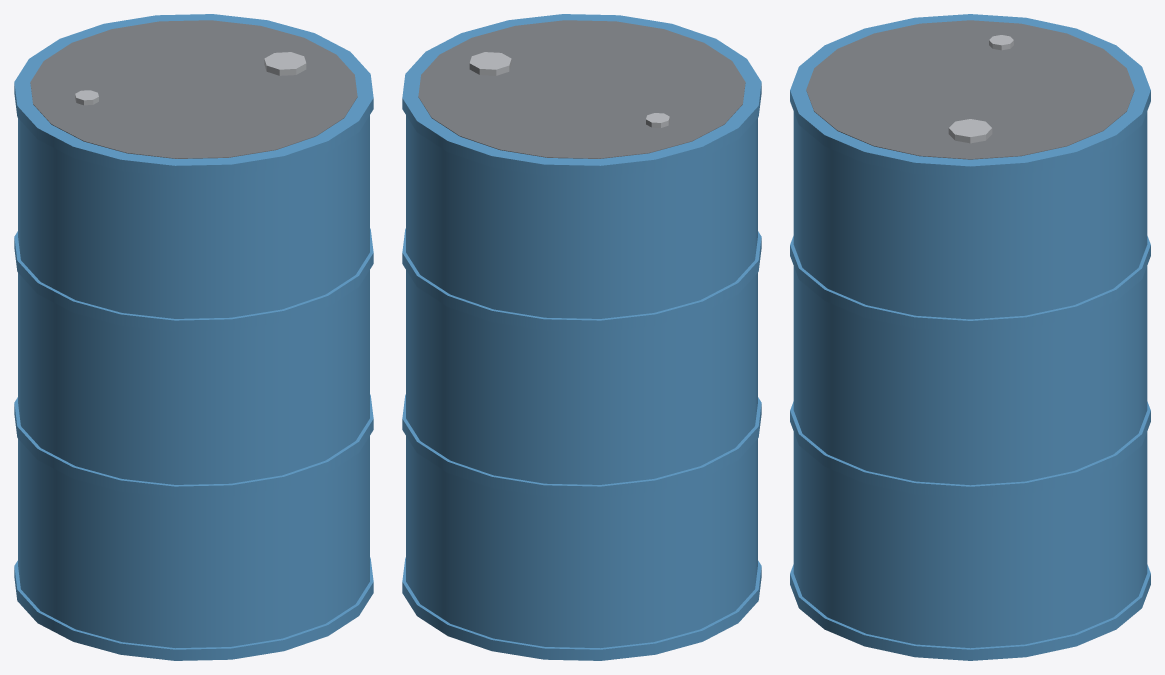
The model's file is tambor_medio.glb.
3 renders of one model, left to right at view 1: azimuth 30°, elevation 25°; view 2: azimuth 150°, elevation 25°; view 3: azimuth 270°, elevation 25°, orthographic.
Visible parts, largest first — view 1: corpo; view 2: corpo; view 3: corpo.
Part boxes in pixels (<box>): corpo: <box>14,14,373,660</box>; corpo: <box>402,14,761,660</box>; corpo: <box>790,14,1150,660</box>.
Bounding box in the file's own units: 0.582 × 0.892 × 0.582.
